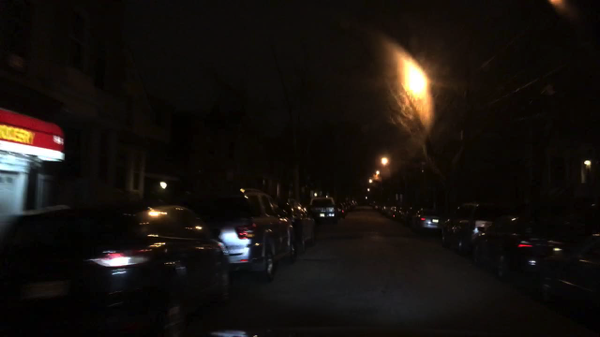car: (0, 204, 232, 337), (189, 187, 300, 283), (466, 217, 579, 279), (528, 235, 599, 326), (440, 202, 507, 257), (278, 198, 317, 252), (411, 208, 442, 231), (400, 207, 421, 224), (388, 204, 402, 218), (378, 203, 392, 214), (337, 203, 345, 218), (372, 202, 381, 210), (342, 203, 349, 213), (346, 201, 352, 210), (368, 200, 375, 207), (351, 201, 356, 208)
truck: (309, 197, 339, 224)
